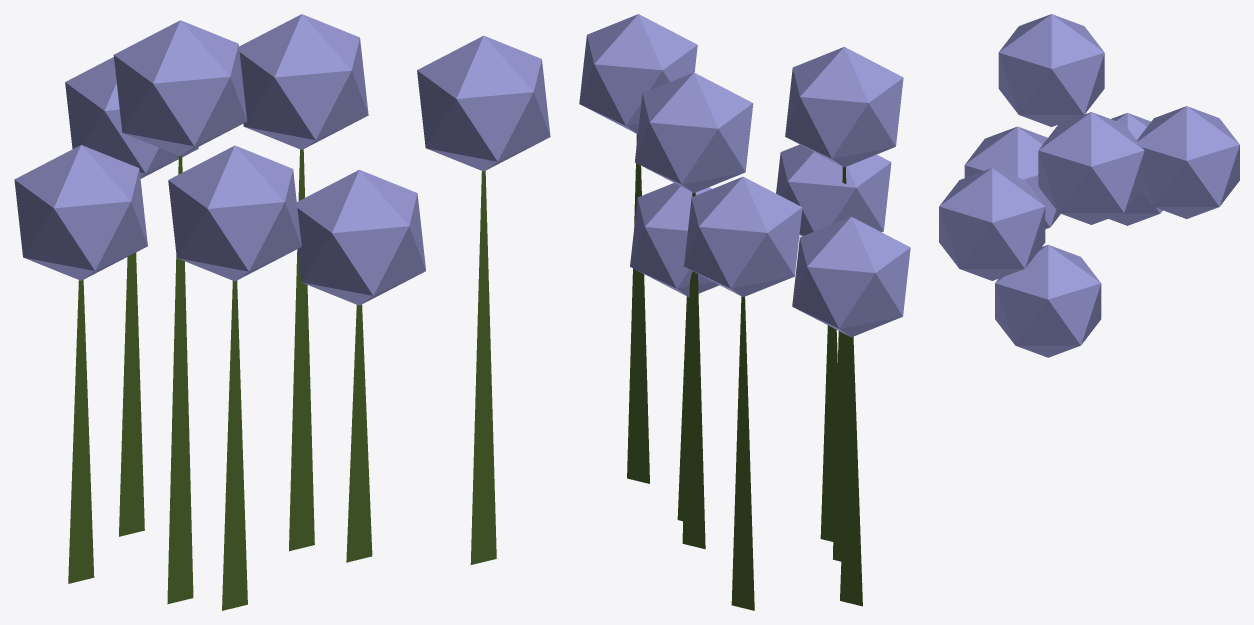
Rendered from flower_petal_v.glb.
3 renders of one model, left to right at view 1: azimuth 30°, elevation 25°; view 2: azimuth 150°, elevation 25°; view 3: azimuth 270°, elevation 25°, orthographic. The views are drawn at different scales.
Parts seen in each view (by area): view 1: flower_src_petal_v; view 2: flower_src_petal_v; view 3: flower_src_petal_v.
Part boxes in pixels (x1,y1,x2,y2): flower_src_petal_v: (14, 14, 550, 610); flower_src_petal_v: (579, 14, 910, 610); flower_src_petal_v: (939, 14, 1239, 357).
Bounding box in the file's own units: 0.2691 × 0.3415 × 0.1927.
